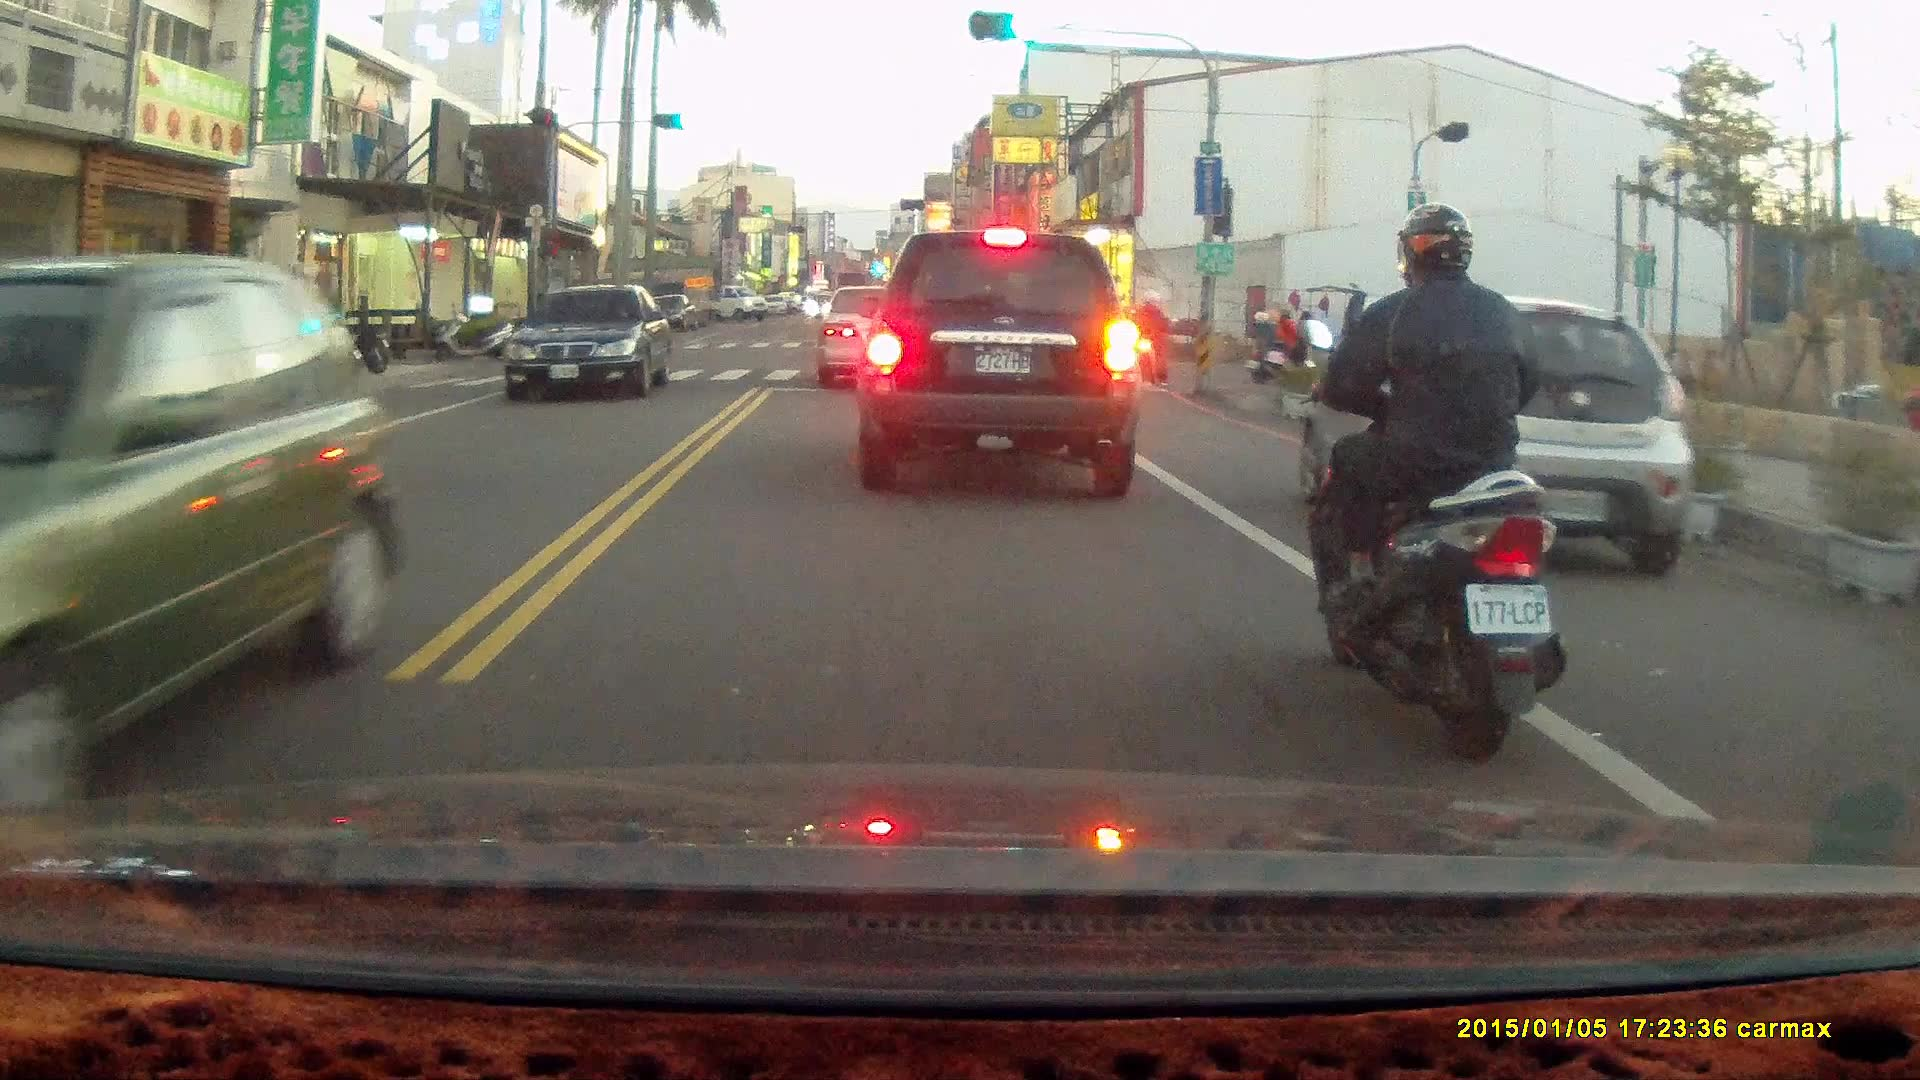rider: (1292, 199, 1567, 760), (1245, 299, 1313, 381), (1123, 286, 1174, 389)
vehicle: (1, 248, 411, 796), (1297, 290, 1698, 574), (858, 224, 1140, 500), (508, 284, 674, 404), (815, 282, 939, 395)
